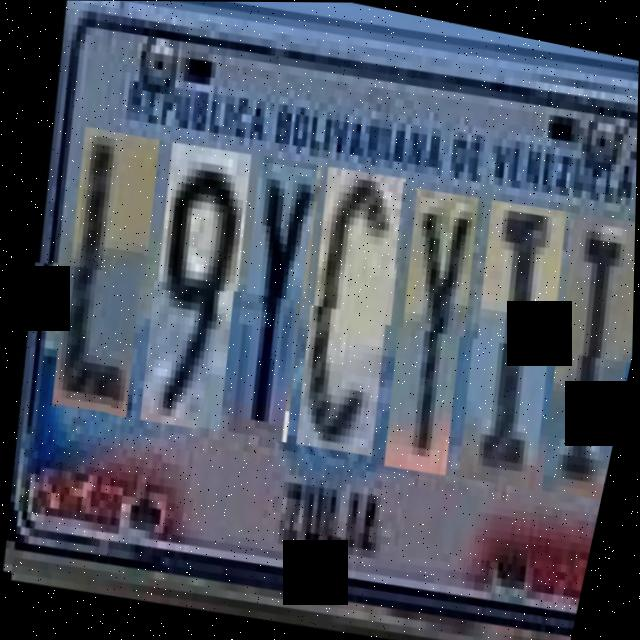9: (110, 140, 272, 436)
C: (268, 166, 425, 460)
I: (429, 200, 587, 495), (512, 213, 636, 507)
L: (23, 125, 180, 420)
Y: (199, 154, 342, 446), (356, 188, 499, 480)
